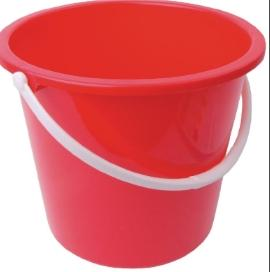SEAU: (2, 0, 270, 272)
